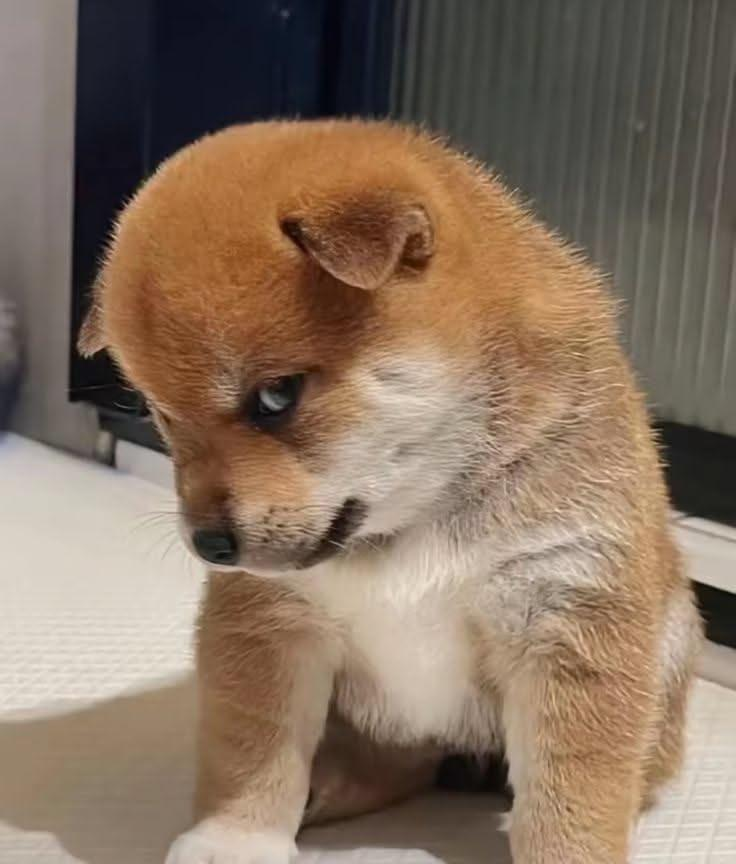puppy-dog: (76, 115, 707, 864)
